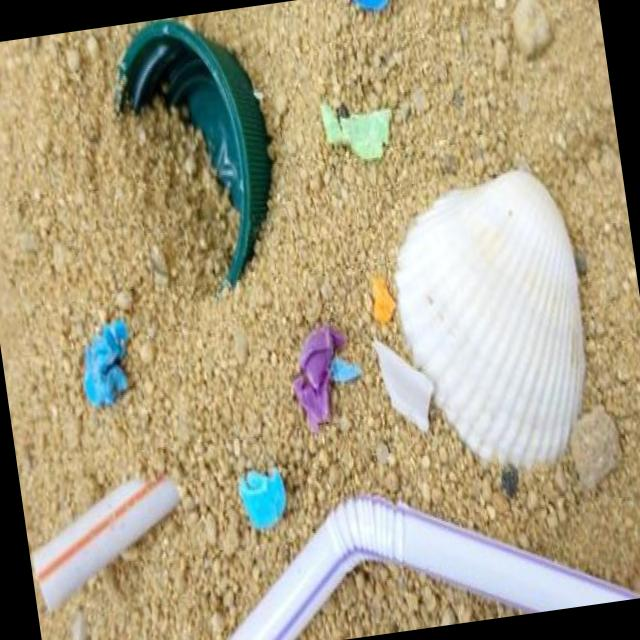electronic: (151, 448, 640, 640), (21, 469, 194, 613)
